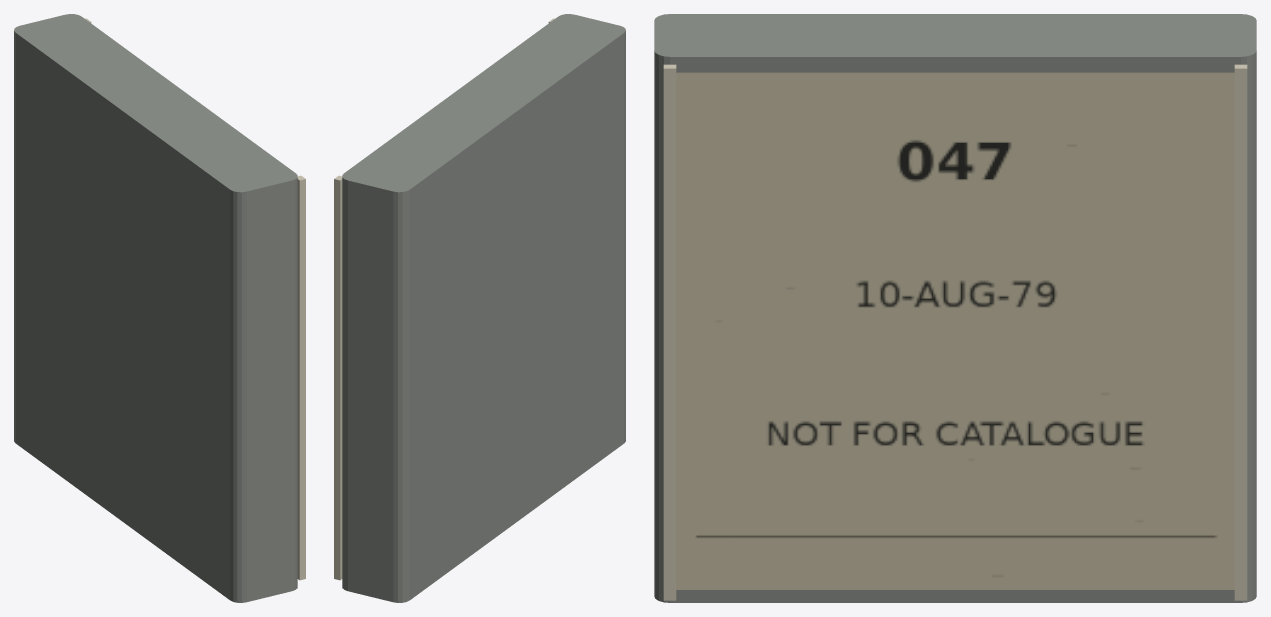
Rendered from SM_ArchiveProps_Reel047Box.glb.
The picture shows the model from 3 angles, left to right: view 1: azimuth 30°, elevation 25°; view 2: azimuth 150°, elevation 25°; view 3: azimuth 270°, elevation 25°; orthographic projection. The views are drawn at different scales.
Visible parts, largest first — view 1: SM_ArchiveProps_Reel047Box; view 2: SM_ArchiveProps_Reel047Box; view 3: SM_ArchiveProps_Reel047Box.
Boxes of the visible parts, x1=… form: SM_ArchiveProps_Reel047Box: x1=14, y1=14, x2=305, y2=602; SM_ArchiveProps_Reel047Box: x1=334, y1=14, x2=625, y2=602; SM_ArchiveProps_Reel047Box: x1=654, y1=14, x2=1256, y2=602.
Bounding box in the file's own units: 0.0355 × 0.19 × 0.19.
3 materials, 1 textured.
